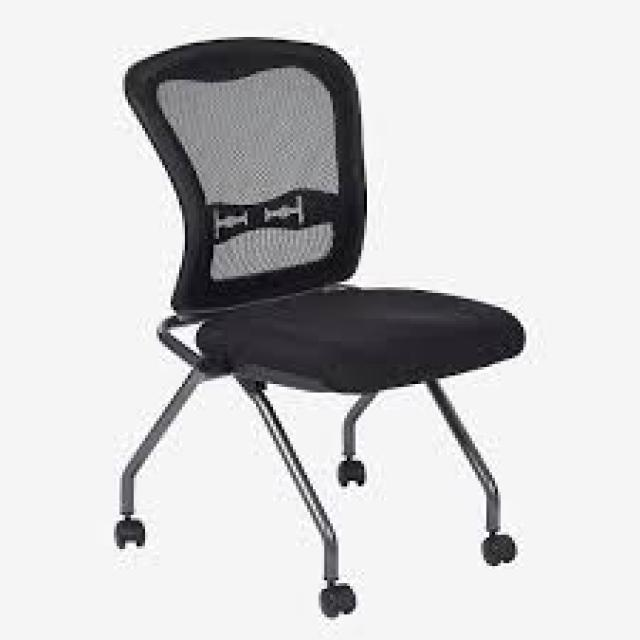chair: (49, 20, 542, 640)
